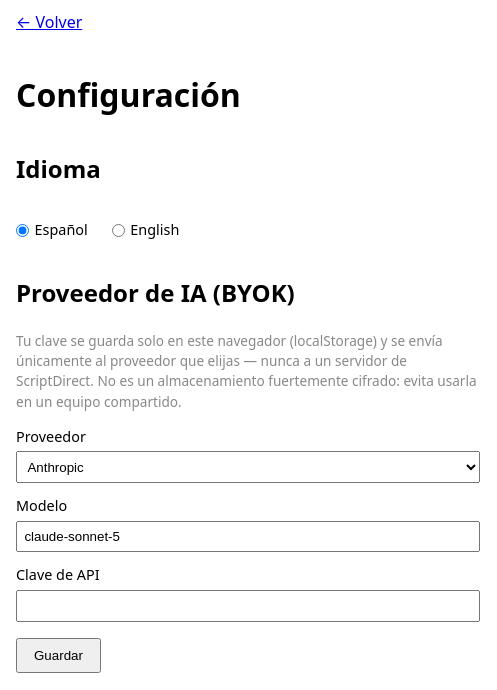
Test case: SettingsScreen › actually re-renders the screen in English once switched, not just the store flag
The width and height of the screenshot is (497, 690).
expect the heading "Configuración" is shown: met, box [16,73,241,116]
expect the button "Guardar" is shown: met, box [16,638,101,673]
Click the radio button labelled "English" at [118, 230], box [112,224,125,237]
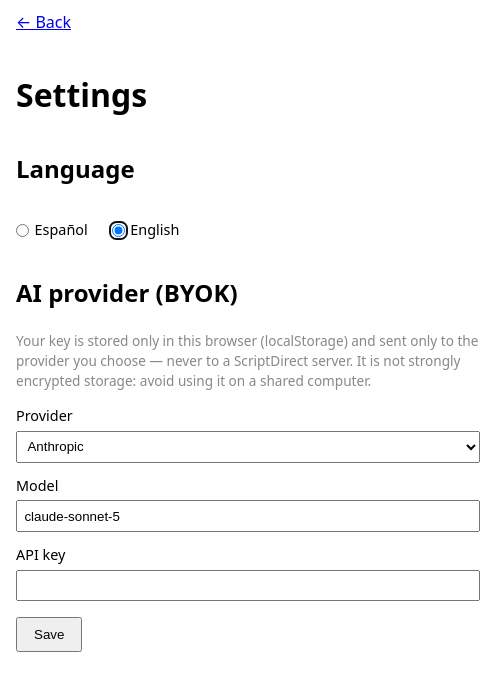
expect the heading "Settings" is shown: met, box [16,73,147,116]
expect the button "Save" is shown: met, box [16,618,82,652]
expect the heading "Configuración" is gone: met
